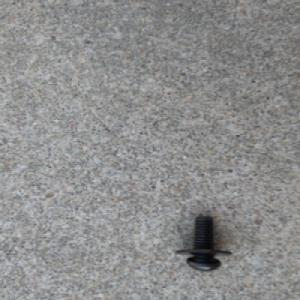BoltWasher: (172, 214, 233, 271)
